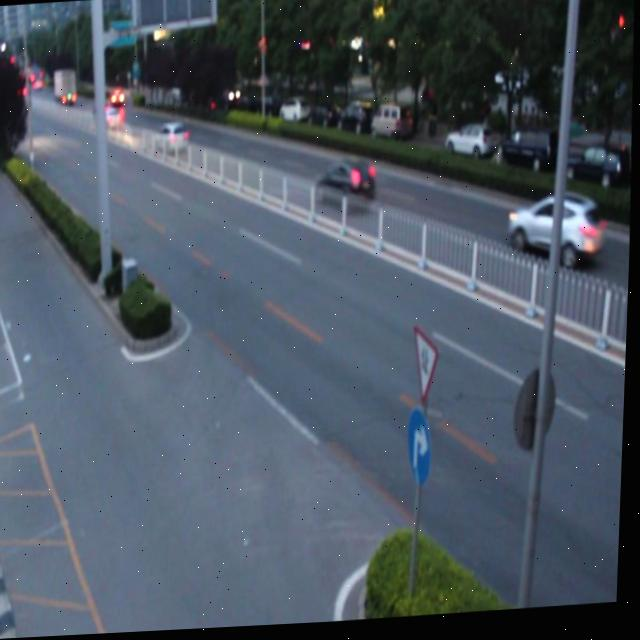car: (507, 192, 607, 275), (316, 159, 379, 219)
